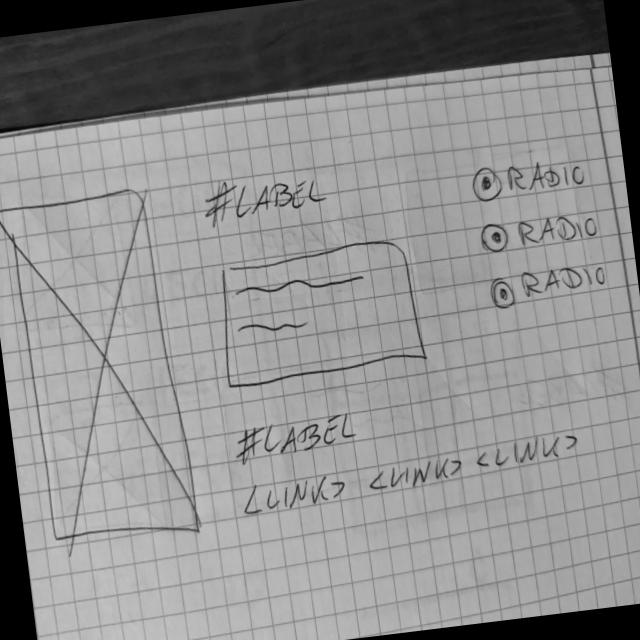image: (1, 185, 204, 554)
label: (200, 167, 330, 229), (234, 411, 360, 468)
link: (240, 472, 351, 519), (473, 431, 582, 475), (365, 454, 466, 497)
radio: (488, 259, 610, 312), (477, 209, 601, 259), (470, 154, 588, 206)
textarea: (211, 235, 431, 393)
